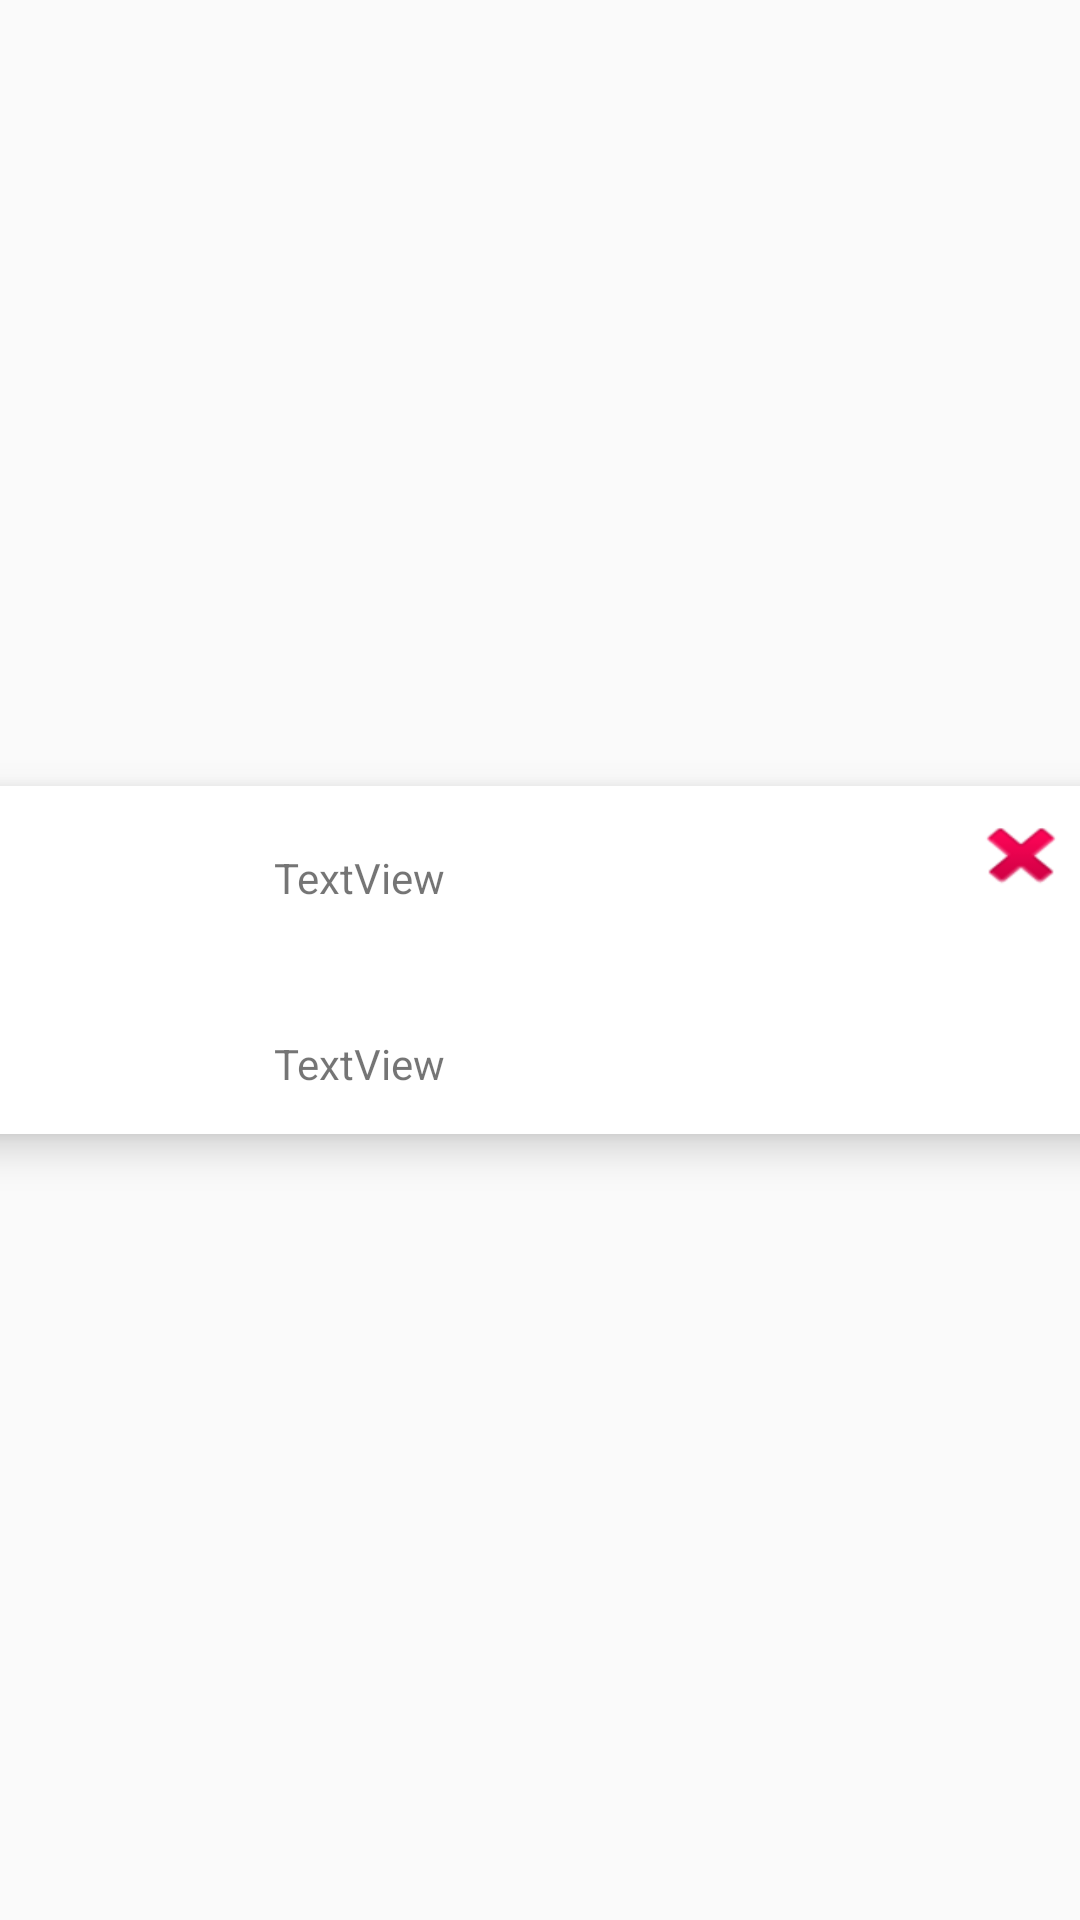

Screen size 1080 x 1920. Icon name, then its box in pixels as Rect(x1, y1, x2, y2):
delete: Rect(987, 828, 1055, 883)
